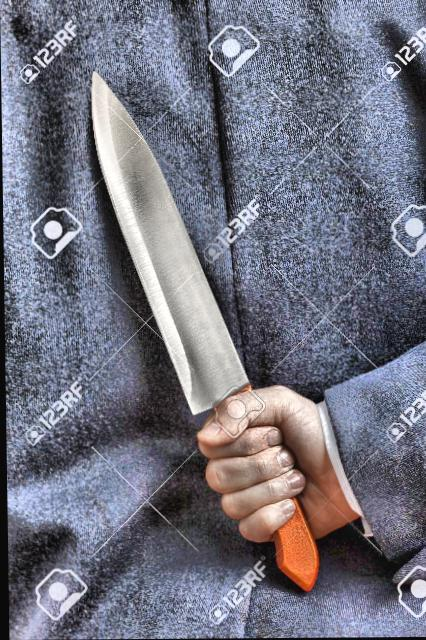knife: (79, 62, 306, 496)
